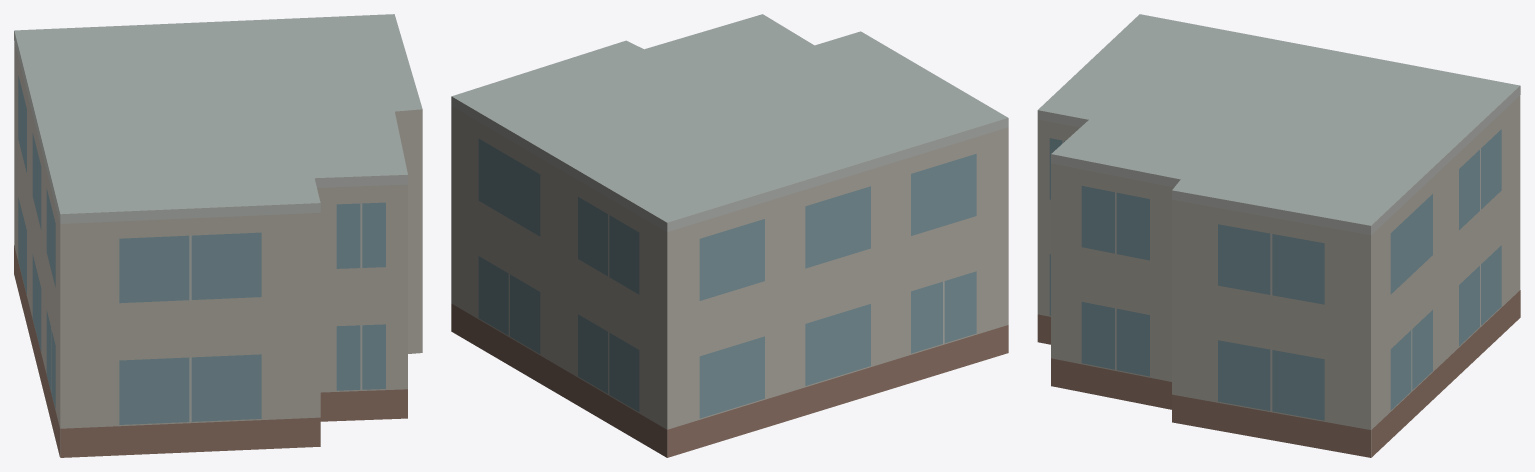
The model's file is survey-upis-32827009.glb.
3 views of the same model, side by side, from view 1: azimuth 30°, elevation 25°; view 2: azimuth 150°, elevation 25°; view 3: azimuth 270°, elevation 25° (orthographic). The views are drawn at different scales.
Parts seen in each view (by area): view 1: survey-upis-32827009.tmp; view 2: survey-upis-32827009.tmp; view 3: survey-upis-32827009.tmp.
Part boxes in pixels (box(x1,y1,x2,y2)): survey-upis-32827009.tmp: box(14, 14, 422, 457); survey-upis-32827009.tmp: box(451, 14, 1008, 457); survey-upis-32827009.tmp: box(1037, 14, 1520, 457).
Size of the model in its own units: 11.95 by 6.1 by 11.51.
